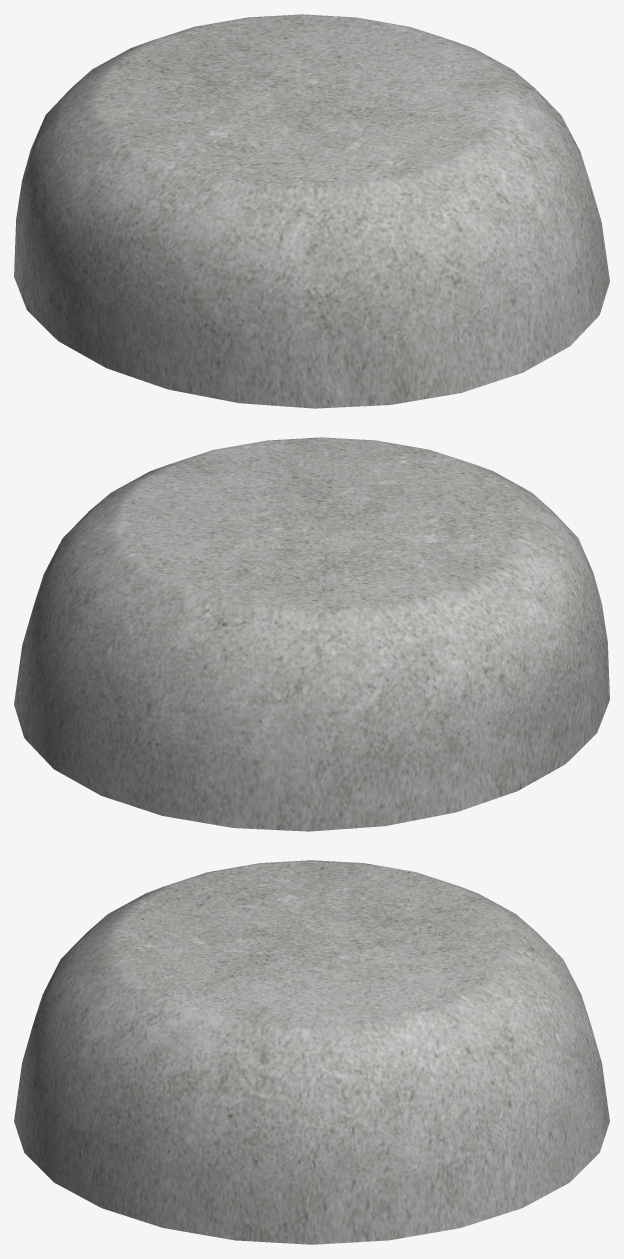
Rendered from SM_SJM_FoundationStoneD_01.fbx.
The picture shows the model from 3 angles, top to bottom: view 1: azimuth 30°, elevation 25°; view 2: azimuth 150°, elevation 25°; view 3: azimuth 270°, elevation 25°; orthographic projection. The views are drawn at different scales.
Parts seen in each view (by area): view 1: SM_SJM_FoundationStoneD_01; view 2: SM_SJM_FoundationStoneD_01; view 3: SM_SJM_FoundationStoneD_01.
Part boxes in pixels (bbox=[...]): SM_SJM_FoundationStoneD_01: bbox=[14, 14, 609, 408]; SM_SJM_FoundationStoneD_01: bbox=[14, 437, 609, 831]; SM_SJM_FoundationStoneD_01: bbox=[14, 860, 609, 1244].
Size of the model in its own units: 68.02 by 71.04 by 23.
1 material, 1 textured.
